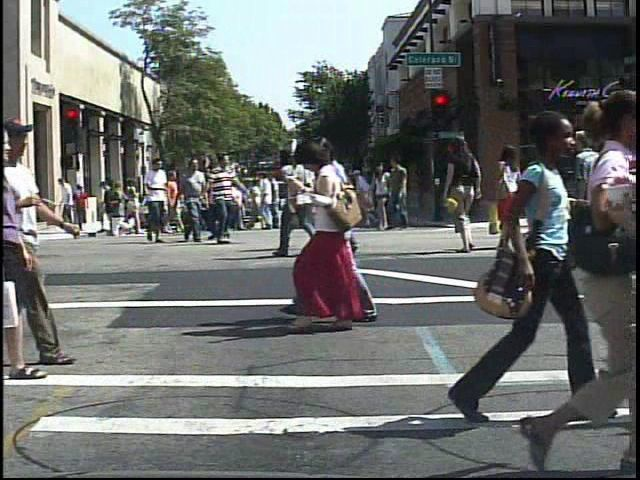person: (0, 107, 80, 368), (282, 136, 373, 338), (317, 129, 388, 329), (565, 117, 606, 270), (274, 134, 320, 263), (440, 134, 486, 251), (600, 132, 638, 272), (489, 141, 534, 257), (318, 150, 363, 260), (282, 141, 324, 250), (202, 152, 241, 246), (179, 155, 215, 248), (584, 146, 616, 246), (138, 156, 170, 246), (120, 174, 142, 241), (74, 182, 94, 228)
